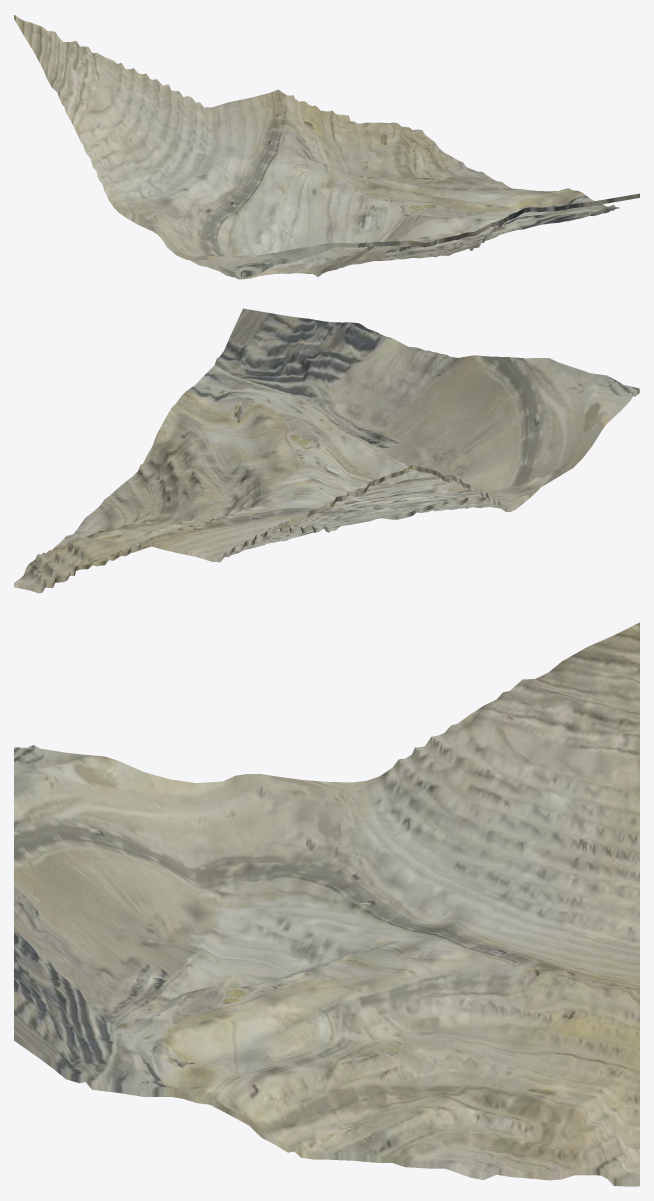
The picture shows the model from 3 angles, top to bottom: view 1: azimuth 30°, elevation 25°; view 2: azimuth 150°, elevation 25°; view 3: azimuth 270°, elevation 25°; orthographic projection. The views are drawn at different scales.
Visible parts, largest first — view 1: l1-1-1; view 2: l1-1-1; view 3: l1-1-1.
Boxes of the visible parts, x1=… form: l1-1-1: x1=14, y1=15, x2=639, y2=279; l1-1-1: x1=14, y1=308, x2=639, y2=593; l1-1-1: x1=14, y1=622, x2=639, y2=1186.
Size of the model in its own units: 768 by 406 by 768.
1 material, 1 textured.
